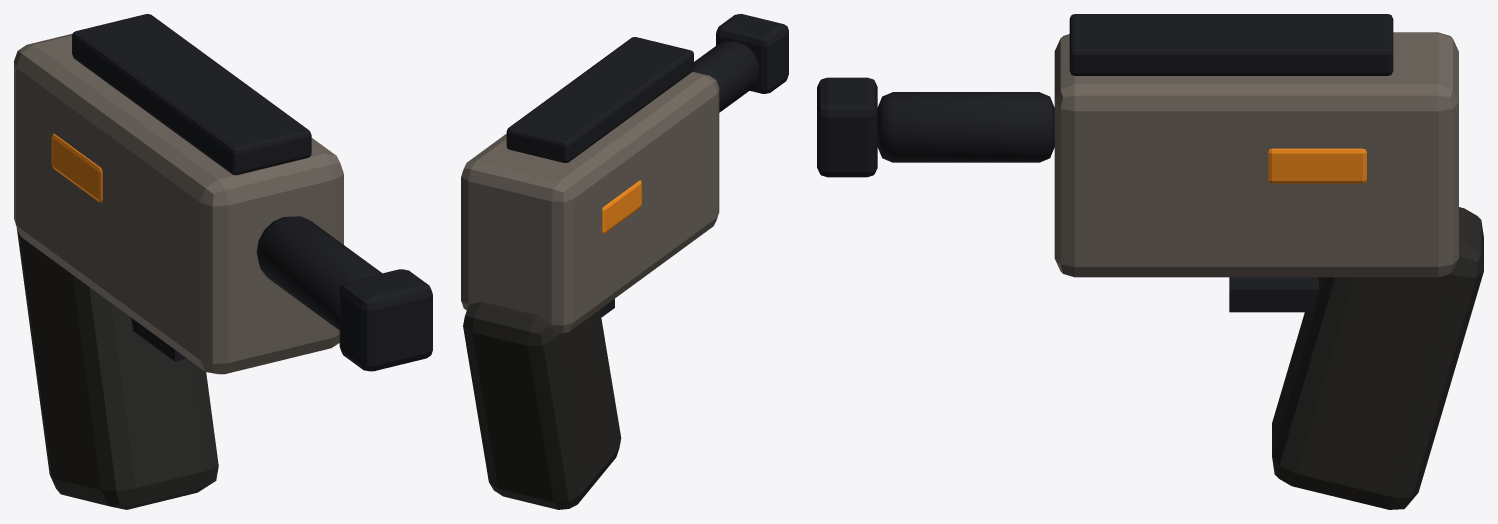
The model's file is ScrapPistol.fbx.
The picture shows the model from 3 angles, left to right: view 1: azimuth 30°, elevation 25°; view 2: azimuth 150°, elevation 25°; view 3: azimuth 270°, elevation 25°; orthographic projection. The views are drawn at different scales.
Visible parts, largest first — view 1: Part__Metal__6e665e, Handle__SmoothPlastic__2b2a28, Part__Metal__1f2024, Muzzle__Metal__1f2024, Part__SmoothPlastic__ff8c1e; view 2: Part__Metal__6e665e, Handle__SmoothPlastic__2b2a28, Part__Metal__1f2024, Muzzle__Metal__1f2024, Part__SmoothPlastic__ff8c1e; view 3: Part__Metal__6e665e, Handle__SmoothPlastic__2b2a28, Part__Metal__1f2024, Muzzle__Metal__1f2024, Part__SmoothPlastic__ff8c1e.
Boxes of the visible parts, box(x1,y1,x2,y2) form: Part__Metal__6e665e: box(14, 33, 343, 374); Handle__SmoothPlastic__2b2a28: box(16, 227, 218, 509); Part__Metal__1f2024: box(72, 14, 382, 361); Muzzle__Metal__1f2024: box(339, 269, 432, 371); Part__SmoothPlastic__ff8c1e: box(51, 133, 102, 202); Part__Metal__6e665e: box(461, 71, 719, 333); Handle__SmoothPlastic__2b2a28: box(463, 301, 621, 509); Part__Metal__1f2024: box(506, 37, 759, 317); Muzzle__Metal__1f2024: box(716, 14, 788, 93); Part__SmoothPlastic__ff8c1e: box(602, 180, 641, 234); Part__Metal__6e665e: box(1054, 32, 1458, 277); Handle__SmoothPlastic__2b2a28: box(1272, 207, 1483, 509); Part__Metal__1f2024: box(877, 14, 1393, 312); Muzzle__Metal__1f2024: box(817, 77, 877, 177); Part__SmoothPlastic__ff8c1e: box(1268, 148, 1366, 183).
Size of the model in its own units: 0.33 by 1.01 by 1.32.
